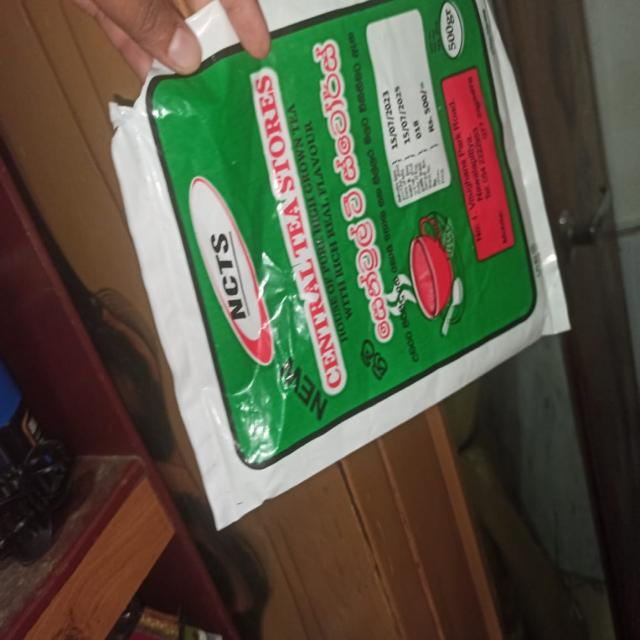Central Tea: (111, 18, 551, 441)
